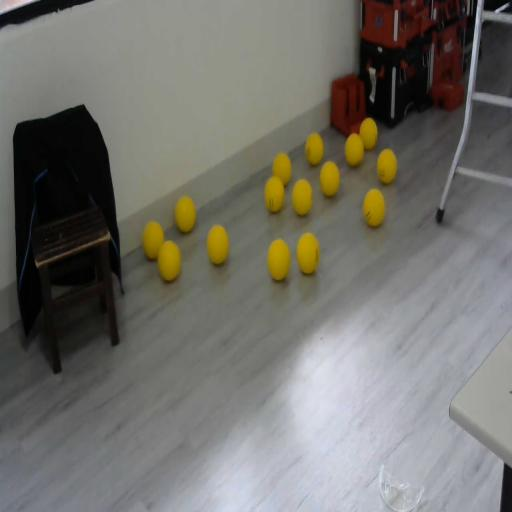FUEL: (156, 238, 182, 282), (266, 237, 291, 281), (296, 231, 320, 275), (206, 222, 230, 266), (362, 188, 386, 228), (142, 220, 164, 260), (291, 178, 313, 217), (174, 196, 196, 233), (376, 148, 398, 184), (272, 151, 292, 187), (320, 161, 340, 197), (358, 117, 378, 150), (344, 133, 364, 166), (305, 132, 323, 166)
